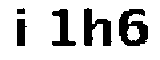1: (45, 5, 76, 49)
6: (118, 6, 150, 52)
h: (80, 5, 116, 52)
i: (12, 5, 32, 54)
